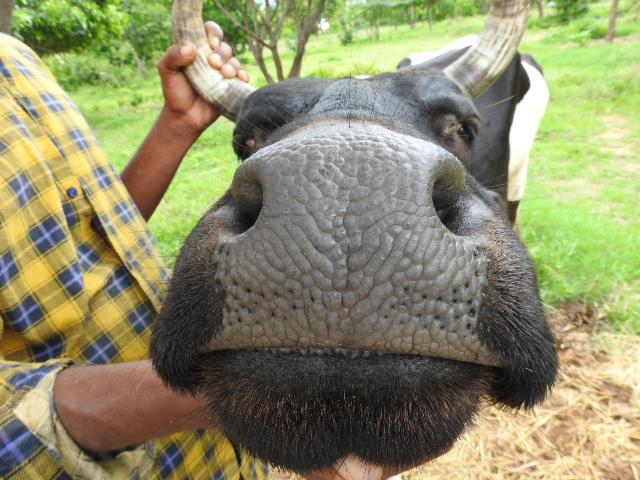Muzzle: (254, 152, 441, 348)
